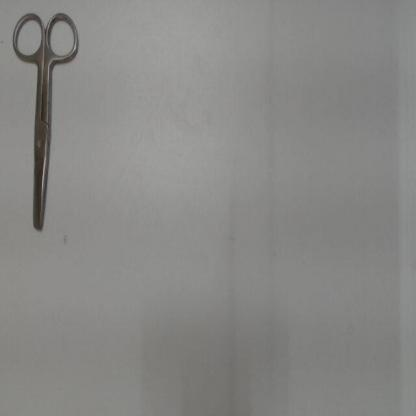Dressing Scissors: (0, 4, 88, 259)
